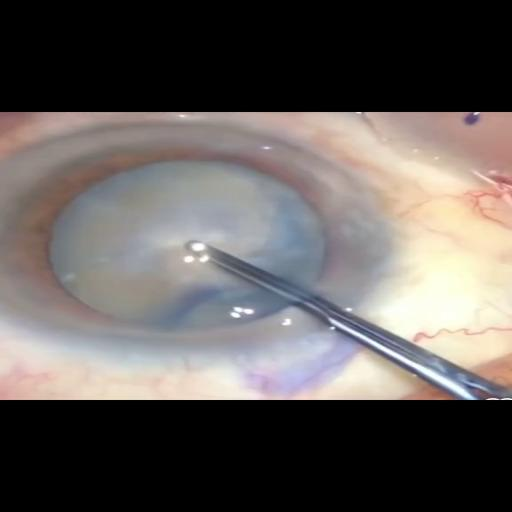catarata: (49, 161, 317, 325)
cornea: (3, 125, 397, 362)
pupil: (9, 142, 347, 338)
